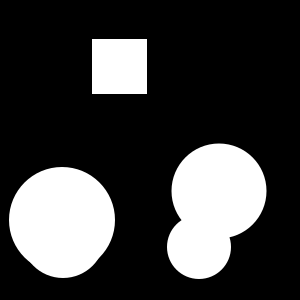circle: (92, 39, 147, 94)
rectangle: (9, 167, 115, 273), (172, 144, 266, 238), (21, 194, 105, 278), (167, 215, 231, 279)
